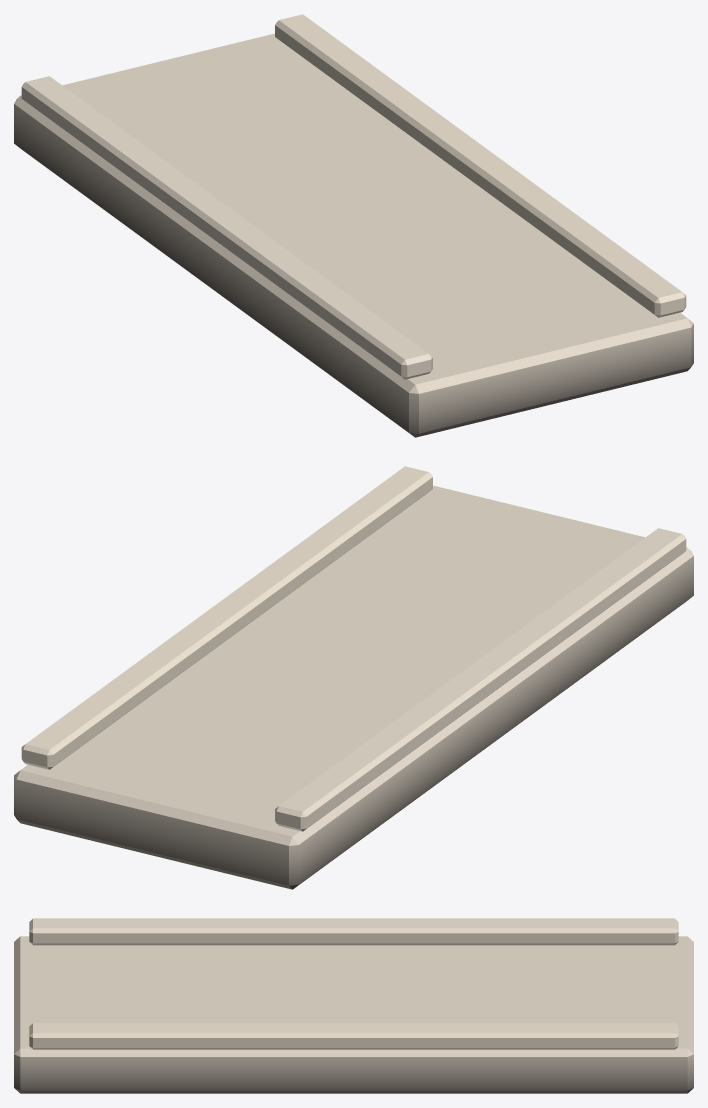
File: SM_VKI_Prop_Bridge_Sewer.fbx
The picture shows the model from 3 angles, top to bottom: view 1: azimuth 30°, elevation 25°; view 2: azimuth 150°, elevation 25°; view 3: azimuth 270°, elevation 25°; orthographic projection. The views are drawn at different scales.
Parts seen in each view (by area): view 1: SM_VKI_Prop_Bridge_Sewer.001; view 2: SM_VKI_Prop_Bridge_Sewer.001; view 3: SM_VKI_Prop_Bridge_Sewer.001.
Boxes of the visible parts, x1,y1,x2,y2 form: SM_VKI_Prop_Bridge_Sewer.001: (14,14,693,437); SM_VKI_Prop_Bridge_Sewer.001: (14,466,693,889); SM_VKI_Prop_Bridge_Sewer.001: (14,918,693,1093).
Bounding box in the file's own units: 0.9 × 0.22 × 2.2.
